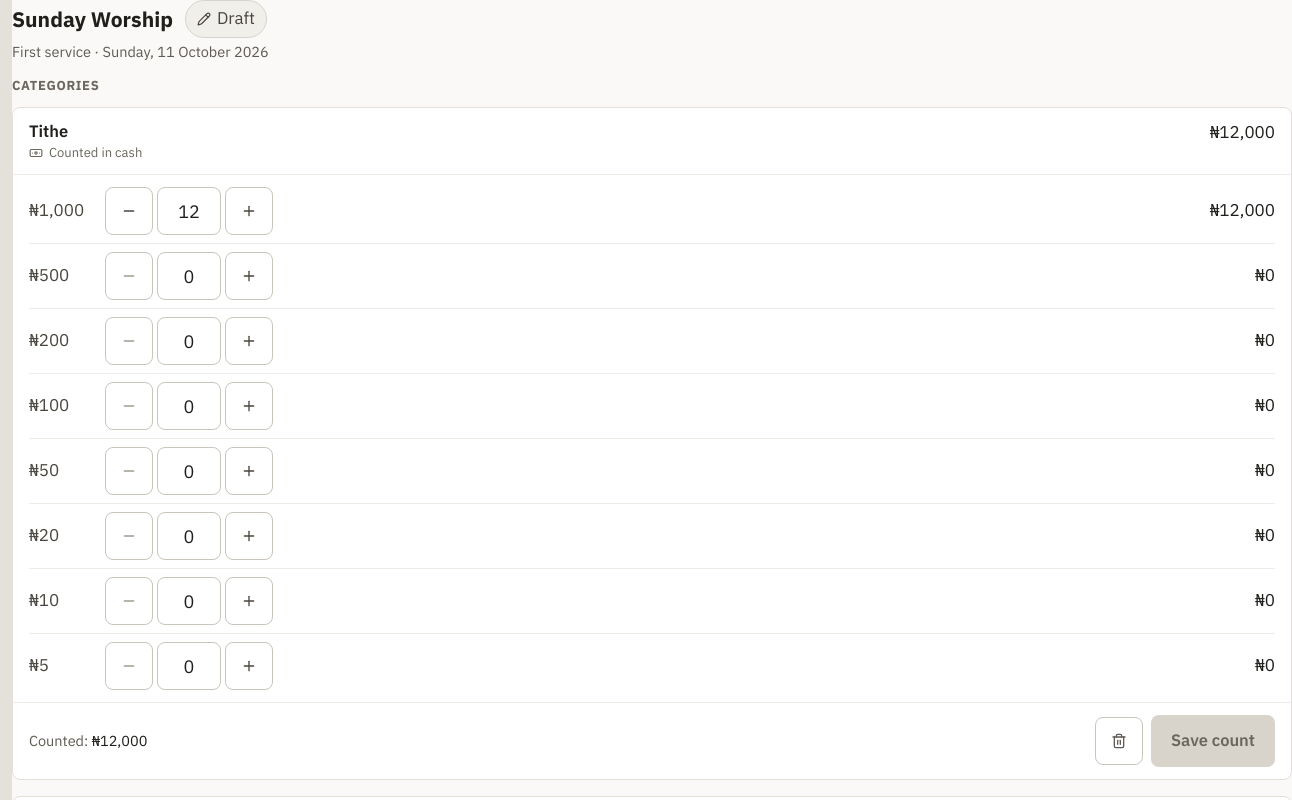
it: removing a card that was holding an unsaved count › asks before removing, rather than removing on the first tap
Click the button named "Remove Tithe": (1119, 741) left=1095, top=717, right=1143, bottom=765
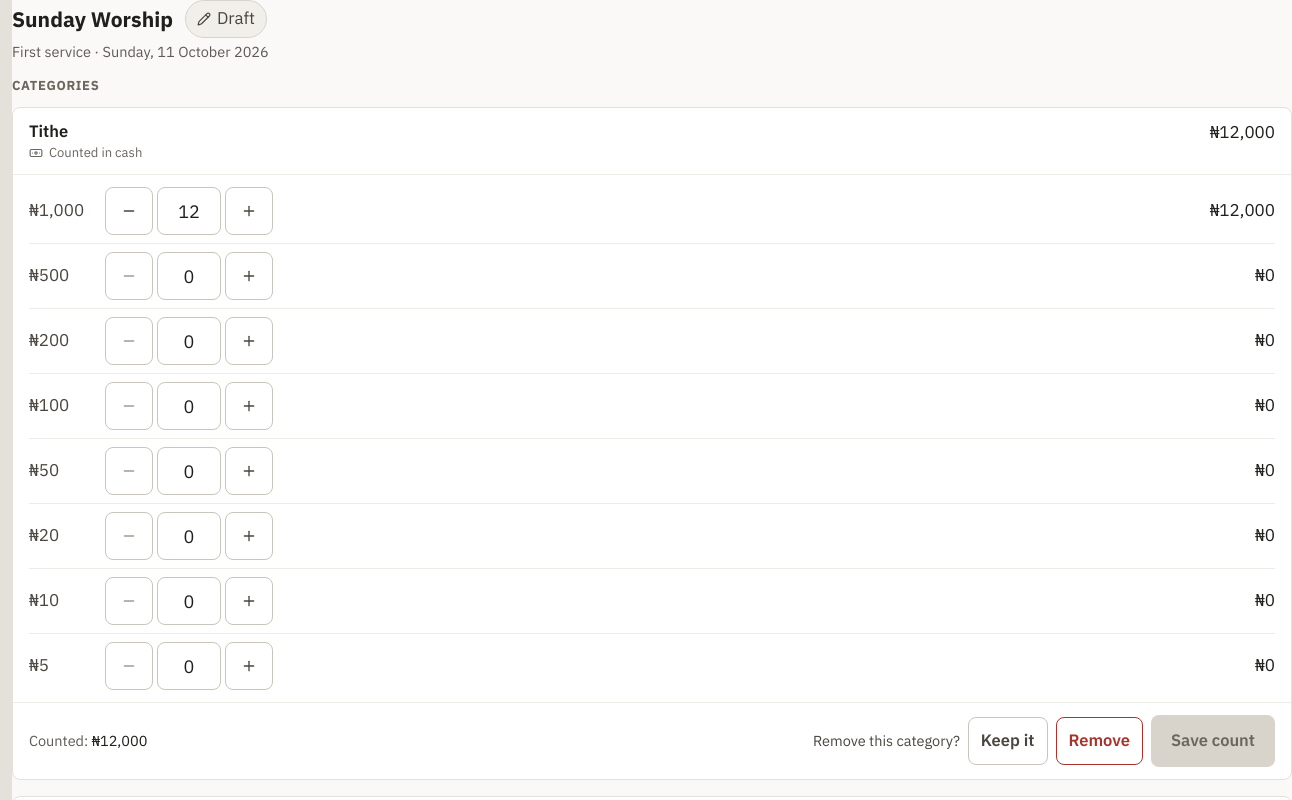
Result: the element "Tithe" shows "Remove this category?" at left=813, top=731, right=960, bottom=750
Click the button "Keep it": (1008, 741) left=968, top=717, right=1048, bottom=765
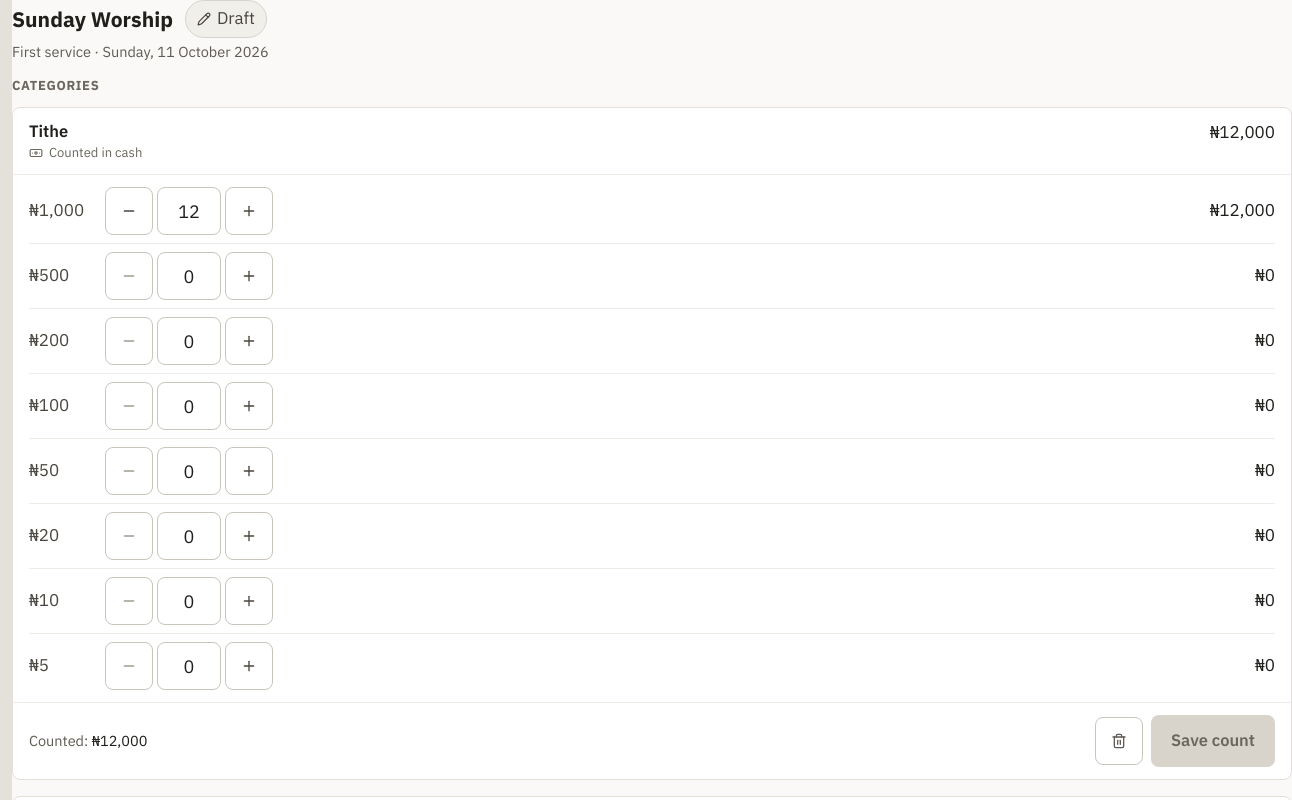
Result: the text "Tithe" no longer shows "Remove this category?"
